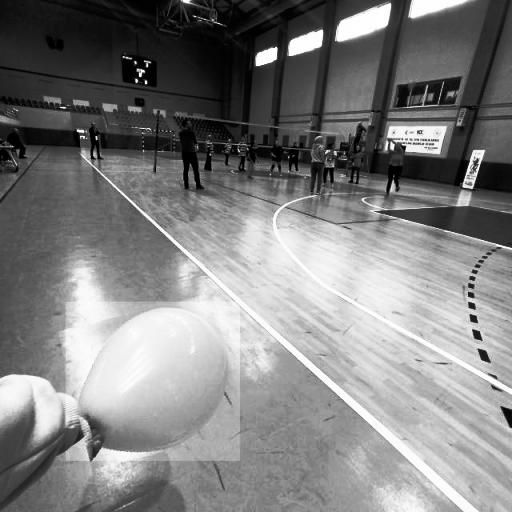balloon: (66, 302, 240, 460)
